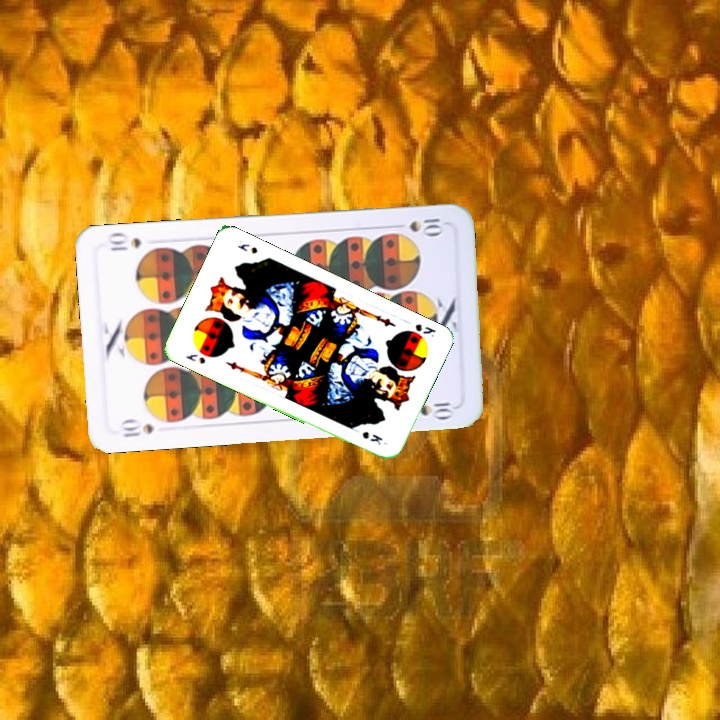S10: (405, 214, 448, 237), (117, 415, 156, 440)
SK: (411, 320, 438, 340), (182, 350, 208, 366)
